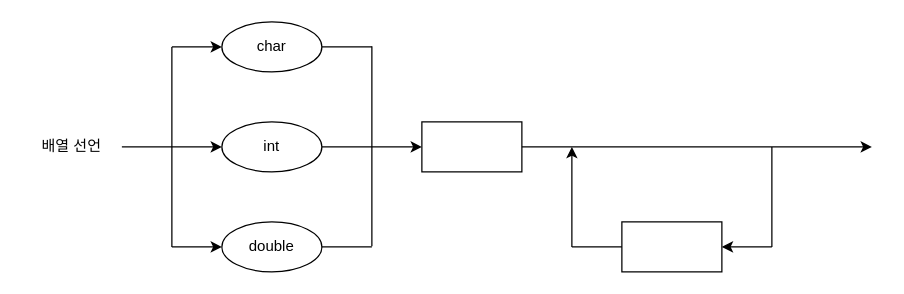
Image size: 904x294. Some labels were removed from this diagram. Each missing label, with the centre of its shape:
digit: the point at 671,246
identifier: the point at 471,146
